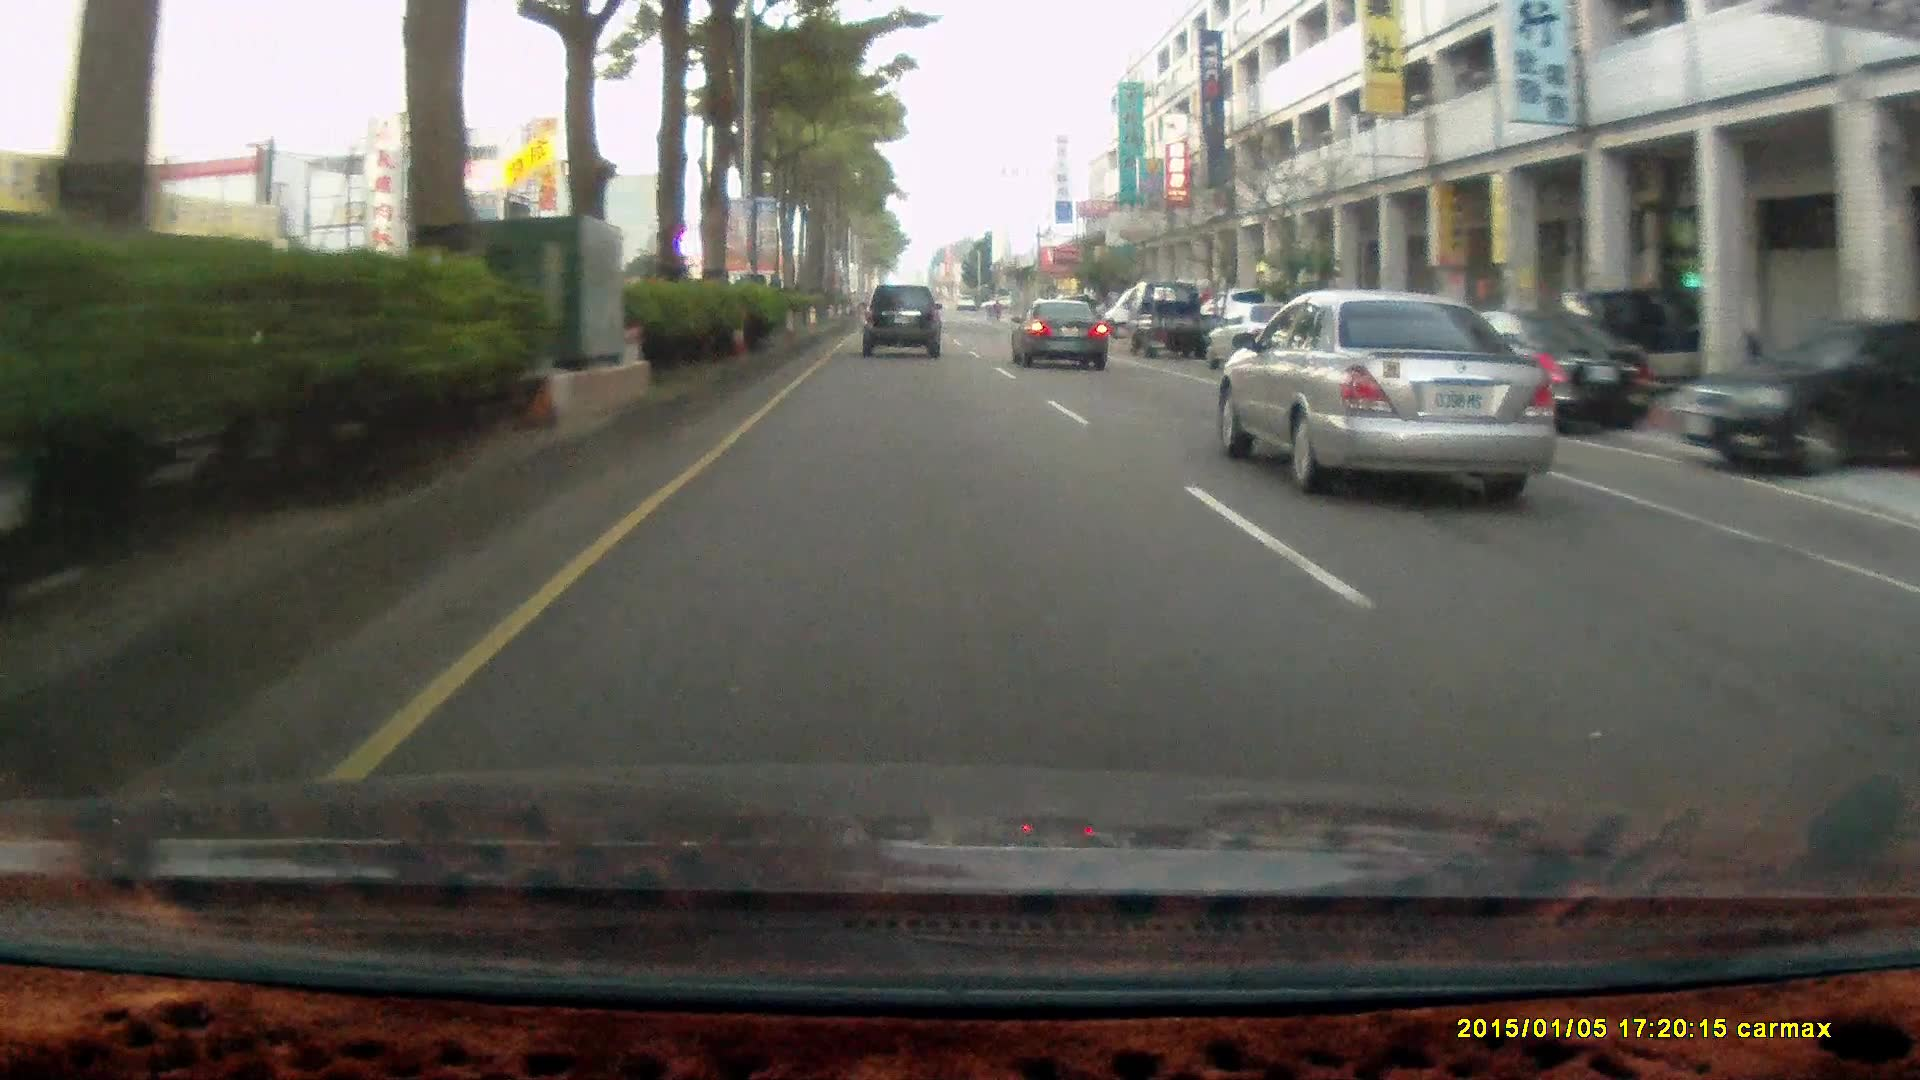vehicle: (1215, 286, 1553, 491), (1673, 316, 1920, 475), (1681, 318, 1917, 483), (1402, 305, 1652, 433), (1201, 299, 1323, 376), (1211, 299, 1332, 376), (1127, 280, 1236, 365), (1125, 276, 1220, 357), (1017, 297, 1116, 369), (1009, 295, 1108, 367), (861, 285, 945, 361), (858, 282, 942, 353)
